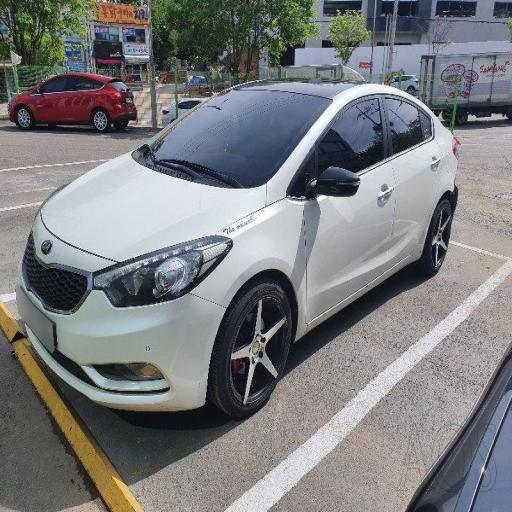scratch: (273, 210, 422, 312)
